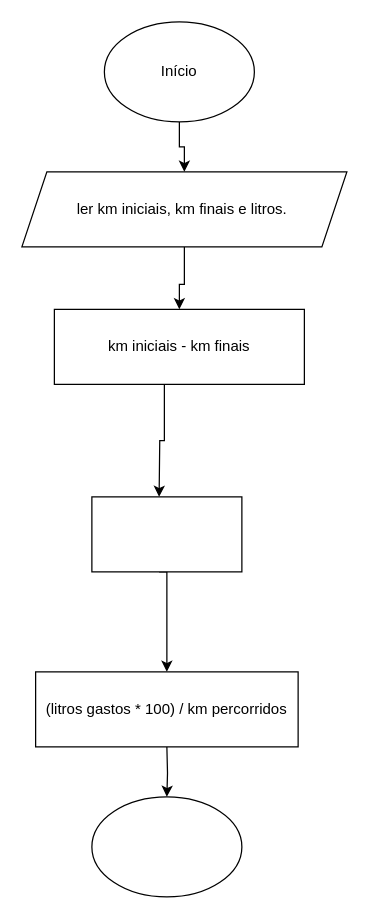
The diagram is 369 pixels wide and 919 high, and some of its shapes have lost their labels. The centre of each missing label's shape, as x and y in pixels:
"Fim" goes at (166,846).
"identificar quantos litros foram gastos" goes at (166,534).
